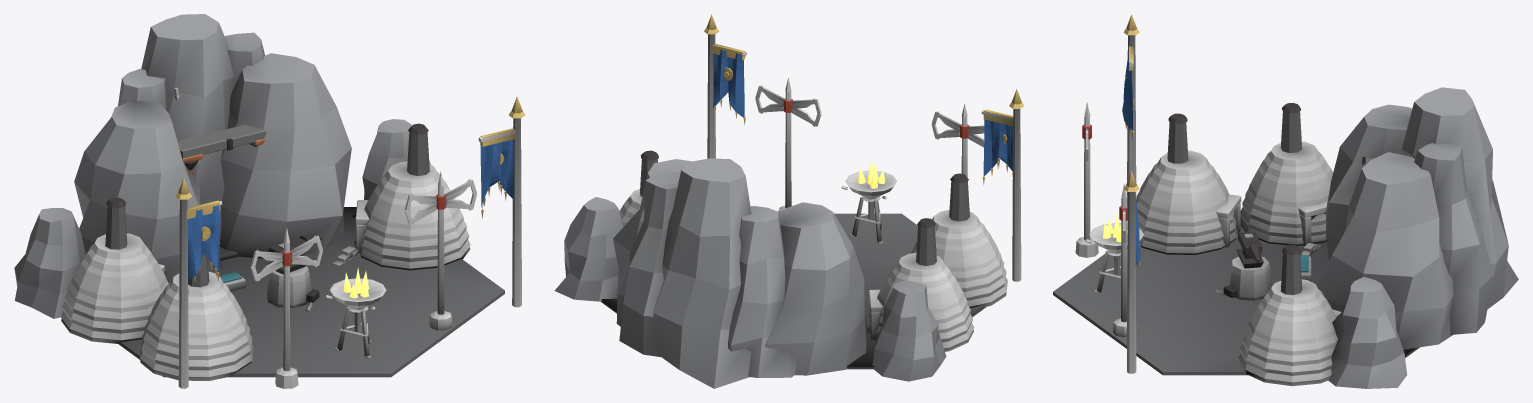
The model's file is dactyl-camp-l1.glb.
The picture shows the model from 3 angles, left to right: view 1: azimuth 30°, elevation 25°; view 2: azimuth 150°, elevation 25°; view 3: azimuth 270°, elevation 25°; orthographic projection. The views are drawn at different scales.
Visible parts, largest first — view 1: dactyl-camp-l1; view 2: dactyl-camp-l1; view 3: dactyl-camp-l1.
Part boxes in pixels (x1,y1,x2,y2): dactyl-camp-l1: [14, 14, 525, 388]; dactyl-camp-l1: [554, 14, 1024, 388]; dactyl-camp-l1: [1053, 14, 1518, 388].
Size of the model in its own units: 1.65 by 0.8229 by 1.7.
